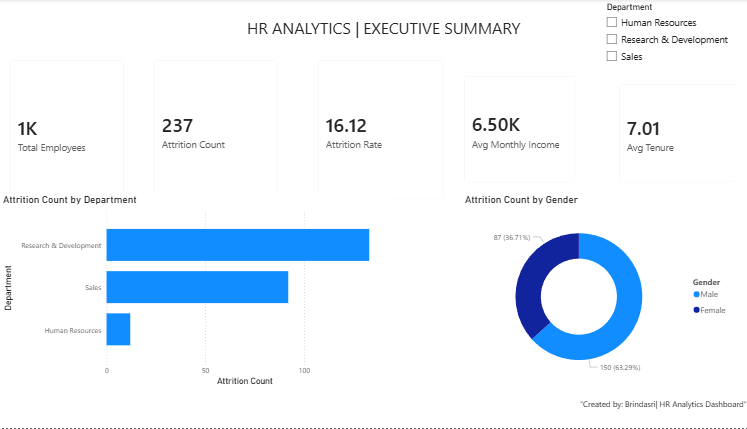

The page's visual inventory and layout, read from the dashboard file:
{"tool":"powerbi","page":{"name":"Executive Summary","canvas":[1280,720],"ordinal":0},"visuals":[{"type":"cardVisual","fields":{"Data":["_Measures.Total Employees"]},"box":[0,85.7,225.1,280.5],"z":0},{"type":"cardVisual","fields":{"Data":["_Measures.Attrition Count"]},"box":[241.9,85.7,240.2,268.8],"z":1000},{"type":"cardVisual","fields":{"Data":["_Measures.Attrition Rate"]},"box":[517.4,85.7,245.2,268.8],"z":2000},{"type":"cardVisual","fields":{"Data":["_Measures.Avg Monthly Income"]},"box":[762.6,112.5,221.7,213.3],"z":3000},{"type":"cardVisual","fields":{"Data":["_Measures.Avg Tenure"]},"box":[1023,126,231.8,199.9],"z":4000},{"type":"clusteredBarChart","fields":{"Category":["WA_Fn-UseC_-HR-Employee-Attrition.Department"],"Y":["_Measures.Attrition Count"]},"box":[0,376.3,658.5,329.2],"z":5000},{"type":"donutChart","fields":{"Category":["WA_Fn-UseC_-HR-Employee-Attrition.Gender"],"Y":["_Measures.Attrition Count"]},"box":[762.6,376.3,458.6,329.2],"z":6000},{"type":"textbox","box":[409.9,25.2,490.5,60.5],"z":6001},{"type":"slicer","fields":{"Values":["WA_Fn-UseC_-HR-Employee-Attrition.Department"]},"box":[1006.2,0,273.8,112.5],"z":6002}]}

Visuals, with their boxes in screenshot pixels (x1, y1, x2, y2), scaled from the page's 1280x720 canvas onto the 747x429 screenshot:
cardVisual - _Measures.Total Employees: x1=0, y1=51, x2=131, y2=218
cardVisual - _Measures.Attrition Count: x1=141, y1=51, x2=281, y2=211
cardVisual - _Measures.Attrition Rate: x1=302, y1=51, x2=445, y2=211
cardVisual - _Measures.Avg Monthly Income: x1=445, y1=67, x2=574, y2=194
cardVisual - _Measures.Avg Tenure: x1=597, y1=75, x2=732, y2=194
clusteredBarChart - WA_Fn-UseC_-HR-Employee-Attrition.Department x _Measures.Attrition Count: x1=0, y1=224, x2=384, y2=420
donutChart - WA_Fn-UseC_-HR-Employee-Attrition.Gender x _Measures.Attrition Count: x1=445, y1=224, x2=713, y2=420
textbox: x1=239, y1=15, x2=525, y2=51
slicer - WA_Fn-UseC_-HR-Employee-Attrition.Department: x1=587, y1=0, x2=746, y2=67
